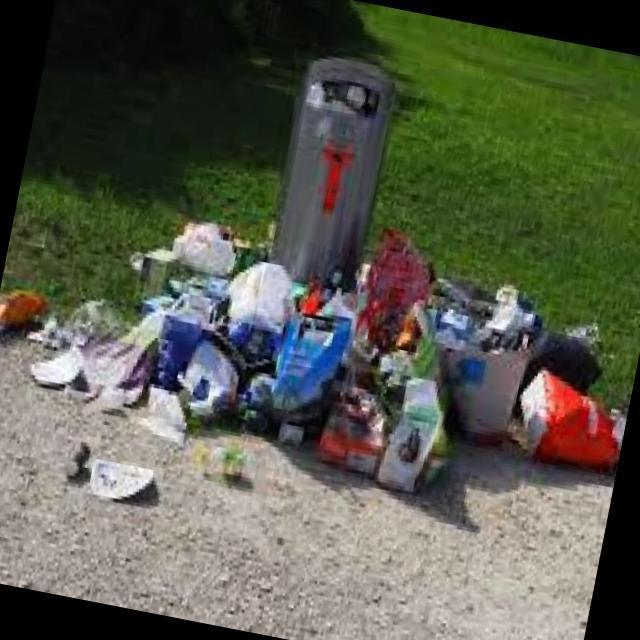garbage: (131, 187, 640, 539), (0, 266, 159, 424), (55, 431, 166, 519), (304, 71, 386, 122)
